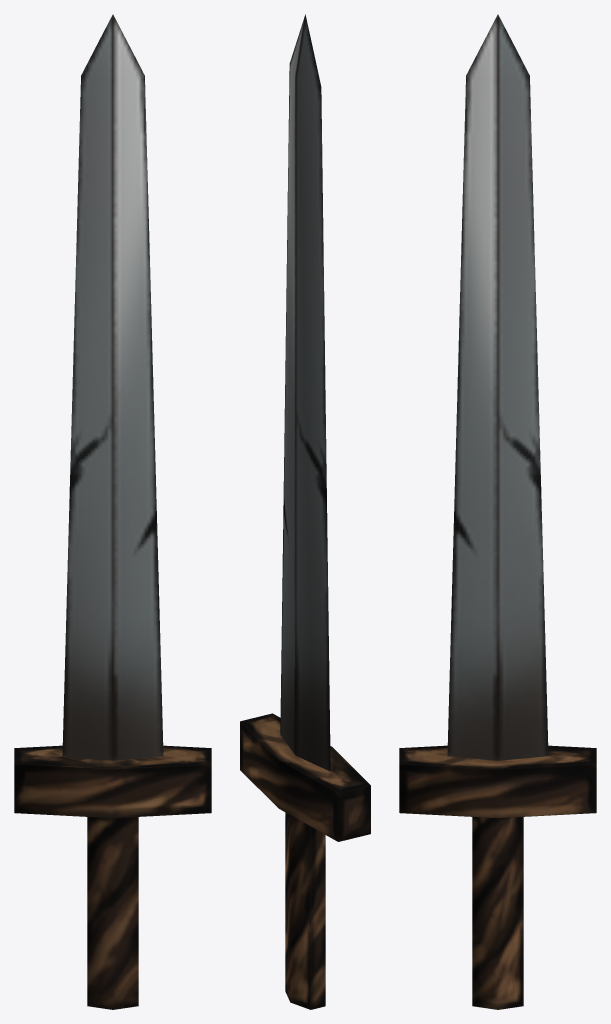
File: WP_2H_Claymore01.FBX
The picture shows the model from 3 angles, left to right: view 1: azimuth 90°, elevation 25°; view 2: azimuth 210°, elevation 25°; view 3: azimuth 270°, elevation 25°; orthographic projection.
Parts seen in each view (by area): view 1: WP_2H_Claymore01; view 2: WP_2H_Claymore01; view 3: WP_2H_Claymore01.
Part boxes in pixels (x1,y1,x2,y2): WP_2H_Claymore01: (14, 14, 211, 1009); WP_2H_Claymore01: (240, 14, 370, 1009); WP_2H_Claymore01: (399, 14, 596, 1009).
Size of the model in its own units: 6.04 by 107 by 19.26.
Materials: 1 (1 with a texture image).
